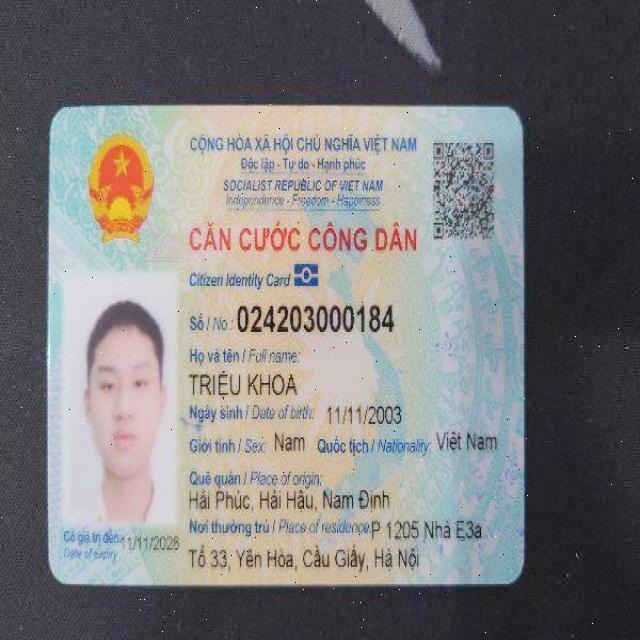current_place: (187, 540, 419, 574), (369, 515, 483, 542)
dob: (319, 397, 402, 430)
expire_date: (116, 530, 181, 554)
gender: (273, 423, 306, 452)
id: (234, 297, 395, 336)
name: (186, 365, 301, 401)
nationality: (431, 419, 499, 458)
origin_place: (188, 485, 391, 516)
qr: (427, 136, 499, 242)
